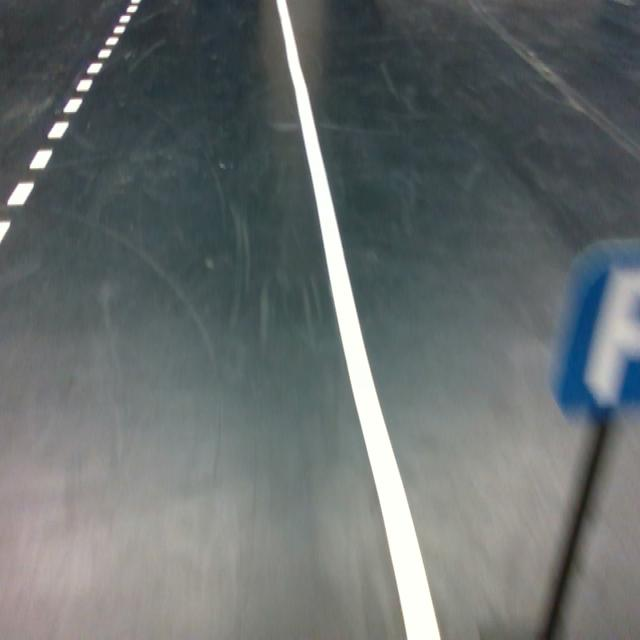parking-sign: (549, 236, 640, 420)
